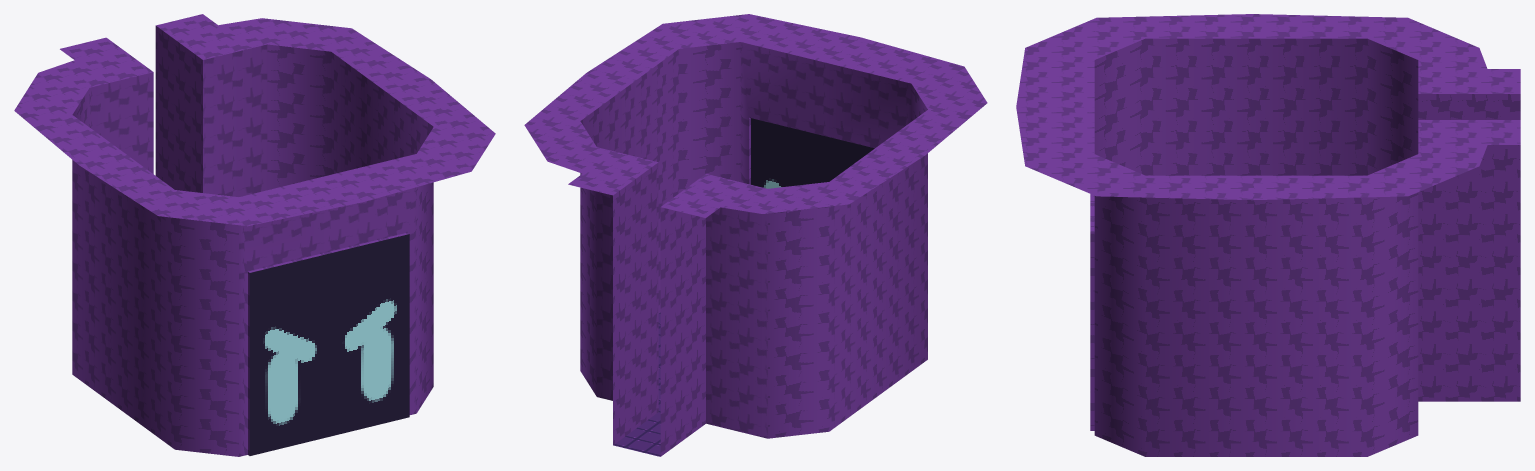
Rendered from RobotBrain.fbx.
3 views of the same model, side by side, from view 1: azimuth 30°, elevation 25°; view 2: azimuth 150°, elevation 25°; view 3: azimuth 270°, elevation 25° (orthographic). The views are drawn at different scales.
Parts seen in each view (by area): view 1: Plane; view 2: Plane; view 3: Plane.
Boxes of the visible parts, x1,y1,x2,y2 form: Plane: (14, 14, 495, 456); Plane: (524, 14, 987, 456); Plane: (1016, 14, 1520, 456).
Size of the model in its own units: 272 by 192 by 312.
